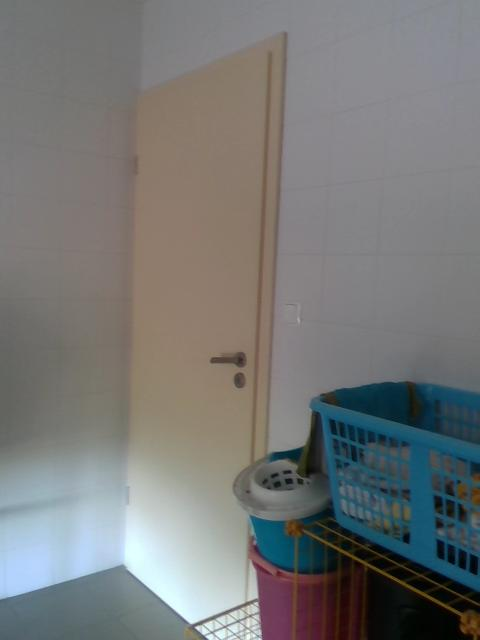door: (127, 51, 271, 640)
